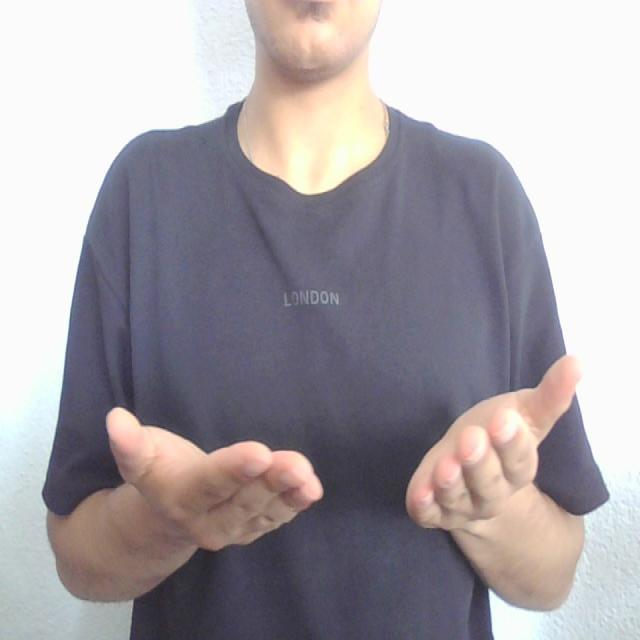Evet: (99, 350, 588, 555)
